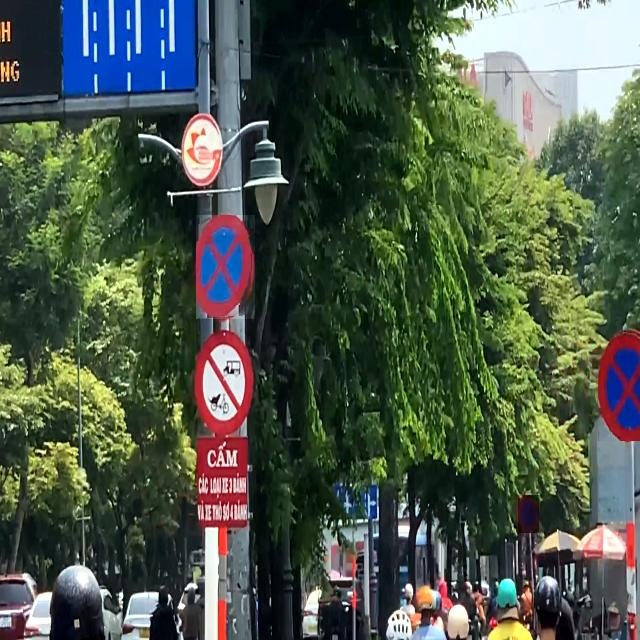bien_hieu_lenh: (196, 215, 255, 319), (596, 329, 640, 441), (518, 495, 539, 533)
